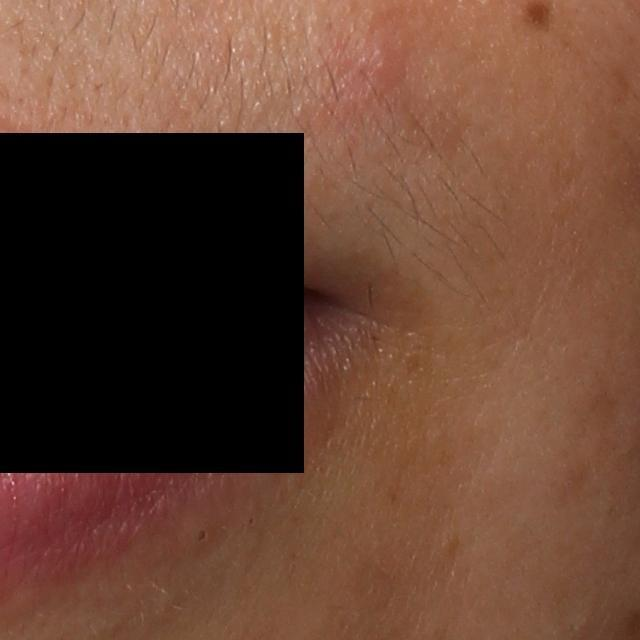comedo: (188, 526, 214, 551)
